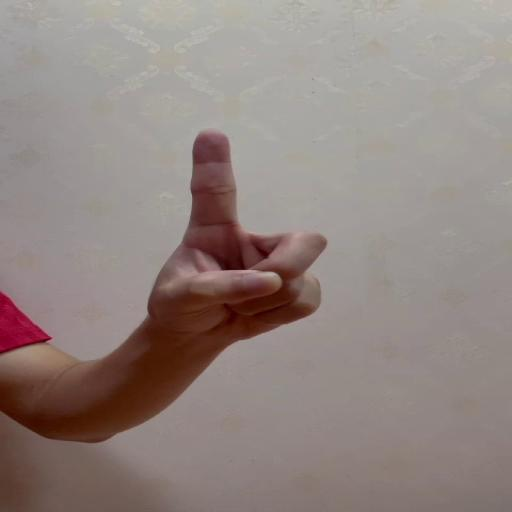point: (167, 128, 331, 332)
